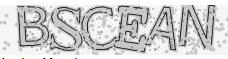A: (146, 6, 177, 51)
B: (15, 4, 50, 48)
C: (81, 5, 115, 54)
E: (114, 4, 150, 54)
N: (177, 4, 216, 50)
S: (50, 5, 83, 54)
